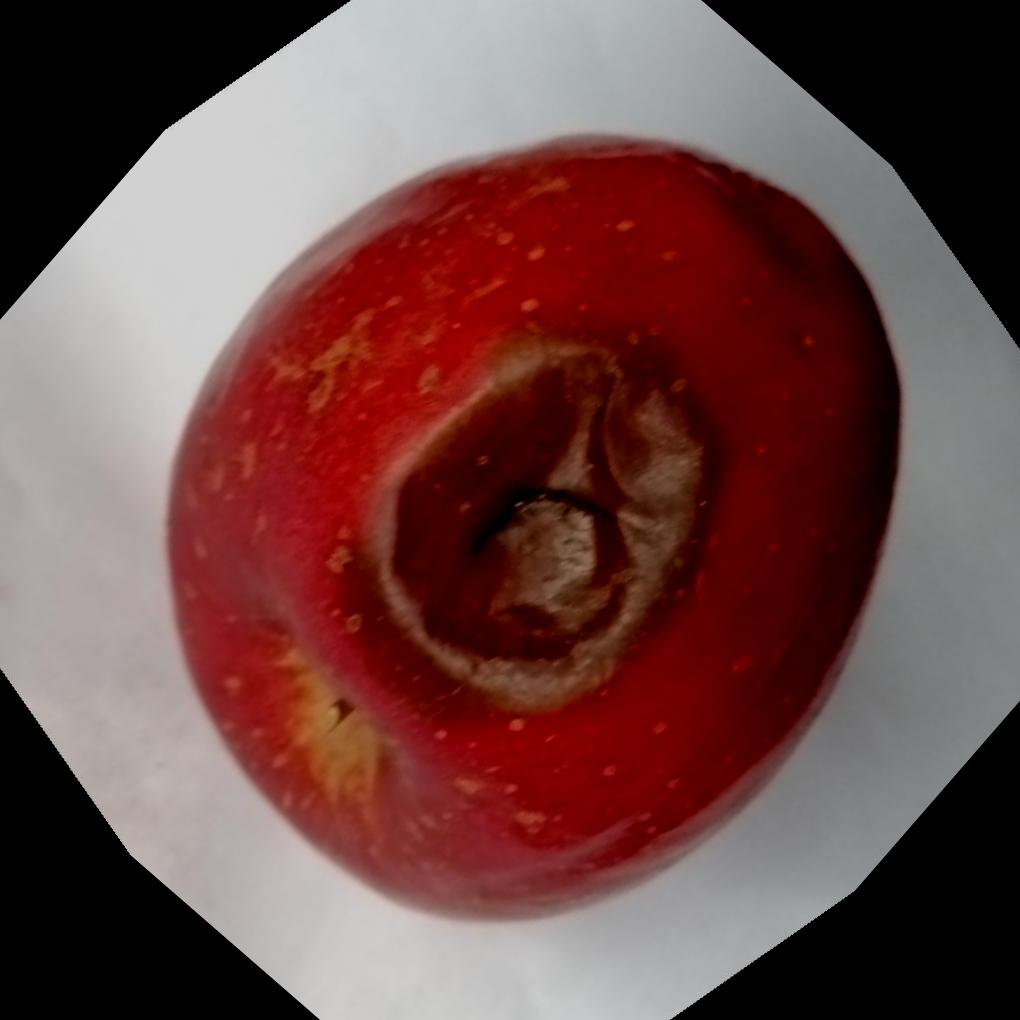FreshOrange: (164, 134, 899, 925)
